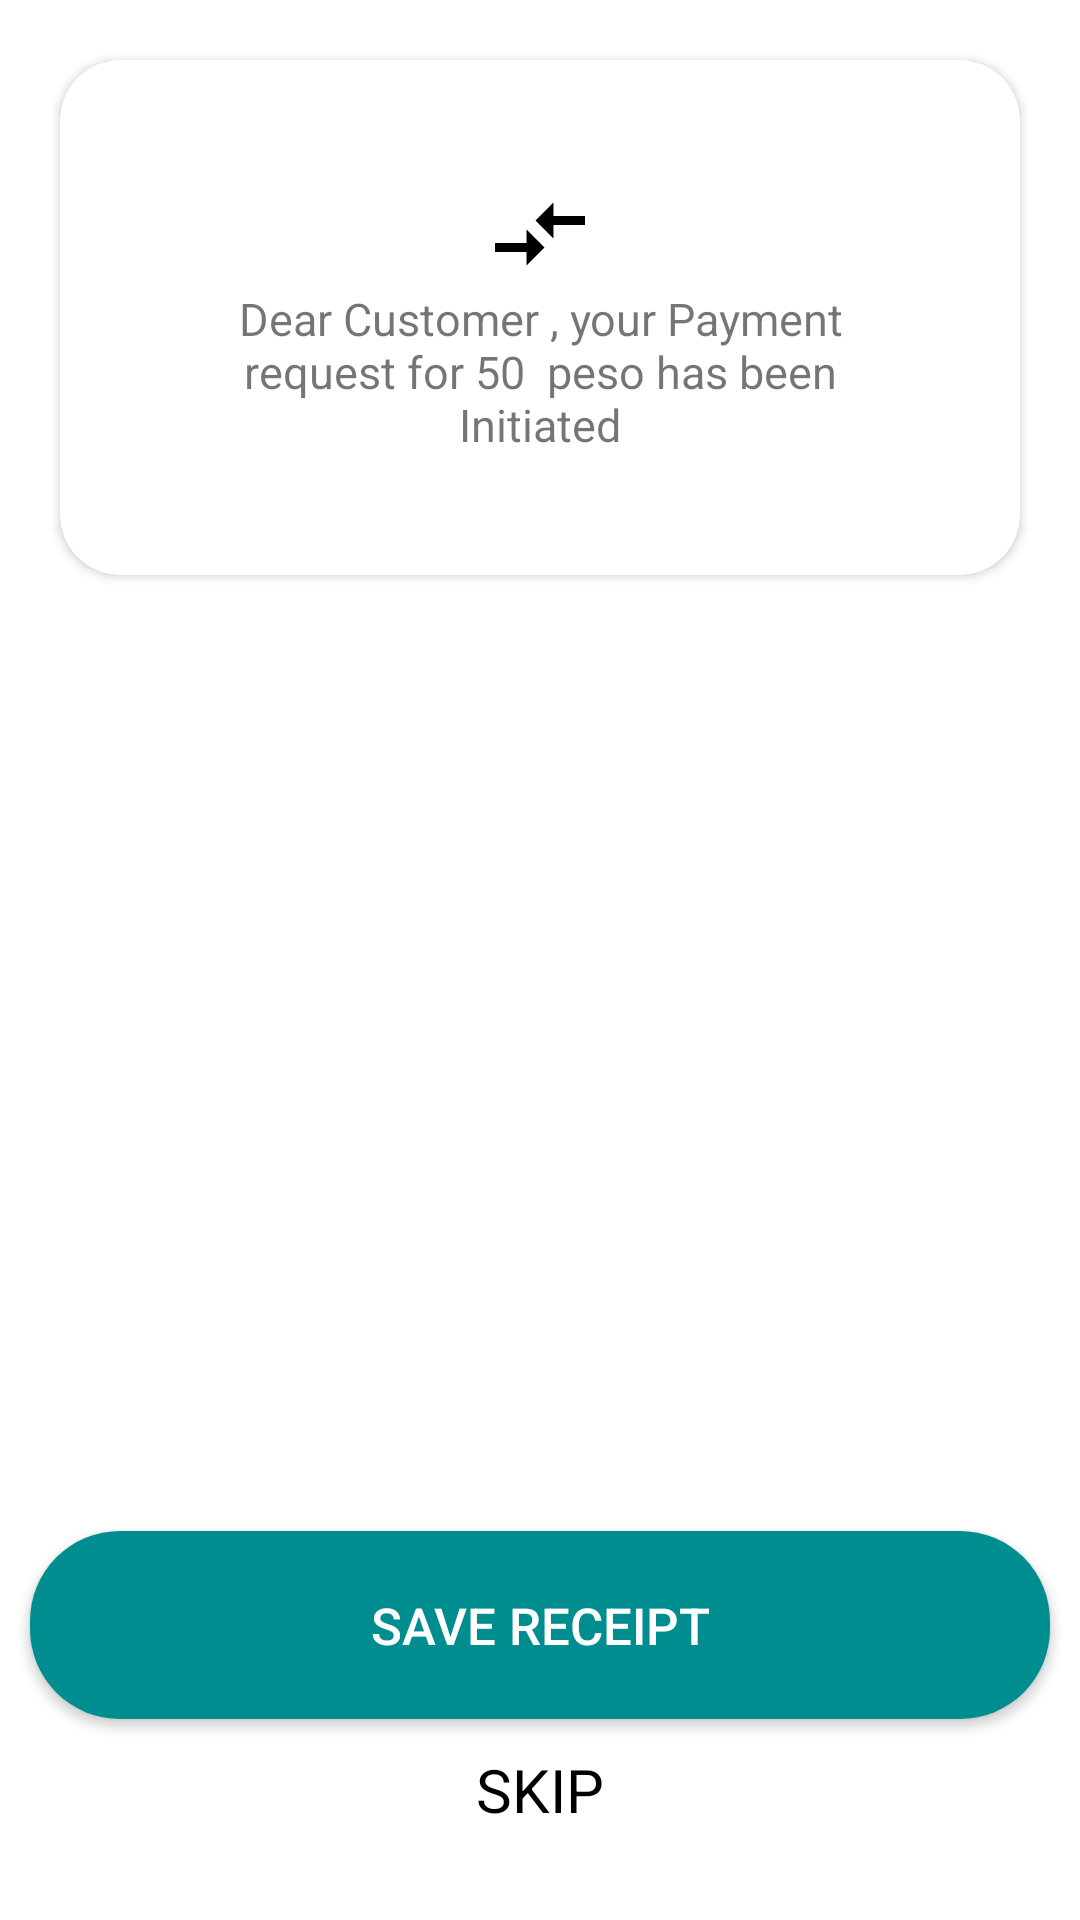

Named icons in this screenshot (1080*1920) and their centers, [x,y]:
compare arrow: [540,234]
